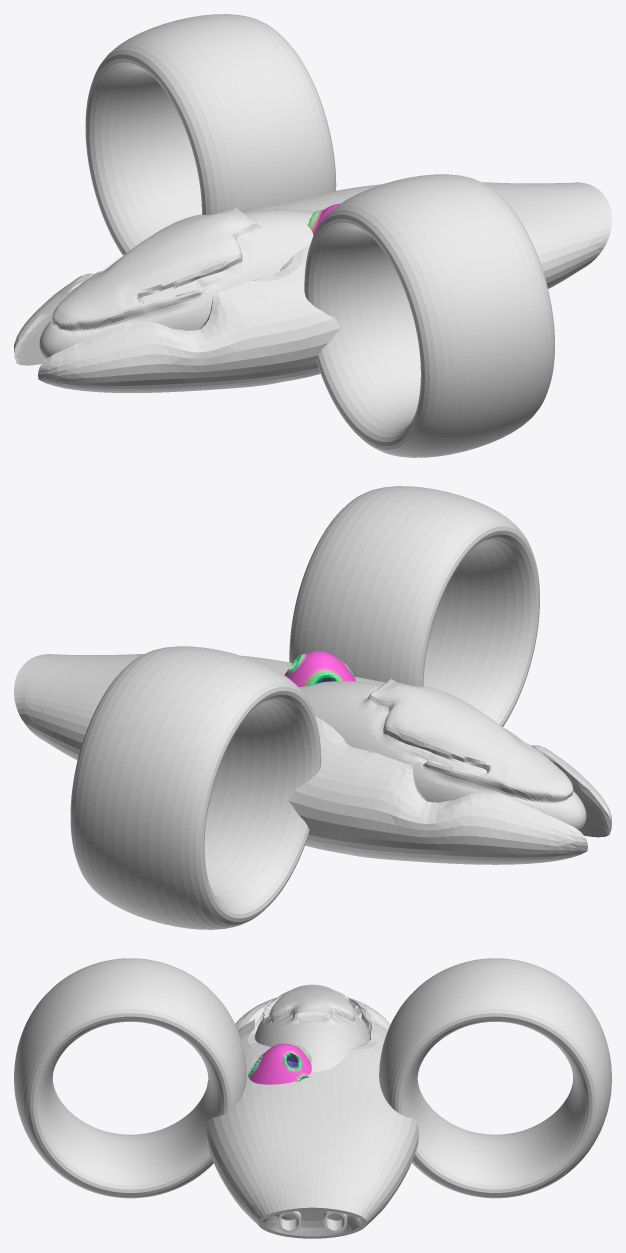
File: StudioGameRocket.fbx
3 renders of one model, top to bottom at view 1: azimuth 30°, elevation 25°; view 2: azimuth 150°, elevation 25°; view 3: azimuth 270°, elevation 25°, orthographic. The views are drawn at different scales.
Visible parts, largest first — view 1: Torus, Torus 1, Quad Sphere.001, Quad Sphere.002; view 2: Torus 1, Torus, Quad Sphere.001, Quad Sphere.002, Quad Sphere; view 3: Torus 1, Torus, Quad Sphere.001, Quad Sphere.002, Quad Sphere.
Boxes of the visible parts, box(x1,y1,x2,y2) form: Torus: box(304, 174, 554, 457); Torus 1: box(85, 14, 336, 255); Quad Sphere.001: box(14, 182, 611, 392); Quad Sphere.002: box(39, 207, 314, 359); Torus 1: box(70, 646, 321, 929); Torus: box(289, 486, 539, 726); Quad Sphere.001: box(14, 654, 611, 864); Quad Sphere.002: box(299, 679, 586, 830); Quad Sphere: box(284, 650, 355, 687); Torus 1: box(379, 958, 611, 1198); Torus: box(14, 958, 246, 1198); Quad Sphere.001: box(206, 997, 419, 1238); Quad Sphere.002: box(255, 984, 370, 1071); Quad Sphere: box(248, 1043, 311, 1084).
Size of the model in its own units: 622 by 263 by 676.
